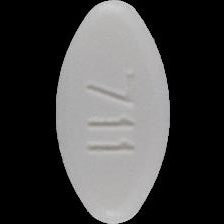65162-711: (0, 0, 224, 224)
